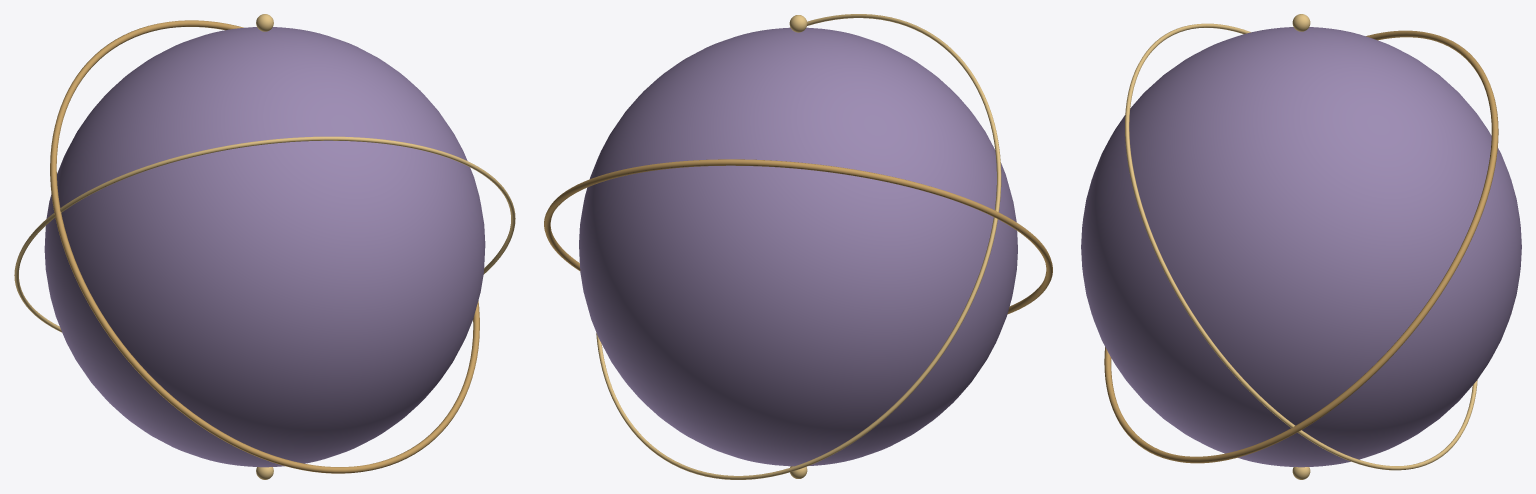
The model's file is crystal.glb.
3 renders of one model, left to right at view 1: azimuth 30°, elevation 25°; view 2: azimuth 150°, elevation 25°; view 3: azimuth 270°, elevation 25°, orthographic.
Visible parts, largest first — view 1: CrystalGlass, CrystalOrbitA, CrystalOrbitB; view 2: CrystalGlass, CrystalOrbitA, CrystalOrbitB; view 3: CrystalGlass, CrystalOrbitA, CrystalOrbitB.
Part boxes in pixels (<box>): CrystalGlass: <box>44,27,485,467</box>; CrystalOrbitA: <box>50,20,479,473</box>; CrystalOrbitB: <box>14,136,515,332</box>; CrystalGlass: <box>579,27,1017,466</box>; CrystalOrbitA: <box>544,159,1052,314</box>; CrystalOrbitB: <box>596,14,1001,479</box>; CrystalGlass: <box>1081,27,1521,467</box>; CrystalOrbitA: <box>1104,30,1498,463</box>; CrystalOrbitB: <box>1125,23,1477,470</box>.
Bounding box in the file's own units: 0.1663 × 0.172 × 0.148.
